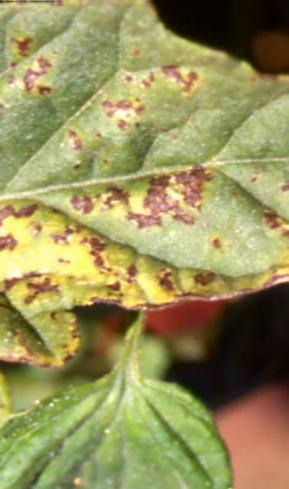Tomato leaf bacterial spot: (0, 0, 289, 440), (0, 325, 250, 489)
